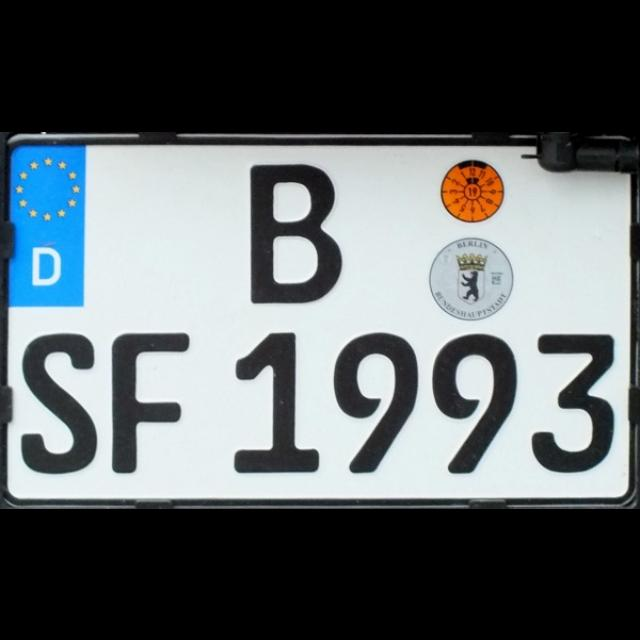d_license_plate: (7, 142, 629, 498)
